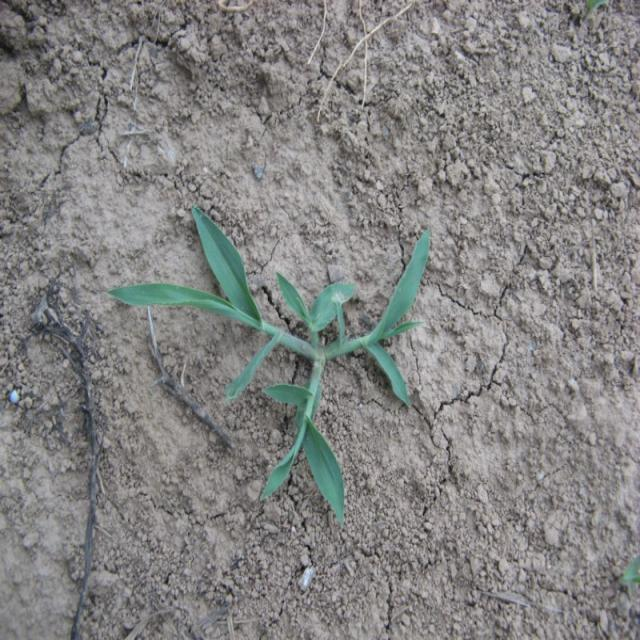bg: (110, 202, 433, 525)
